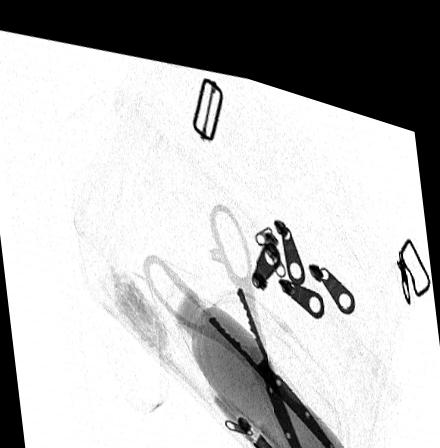Scissors: (139, 186, 346, 448)
